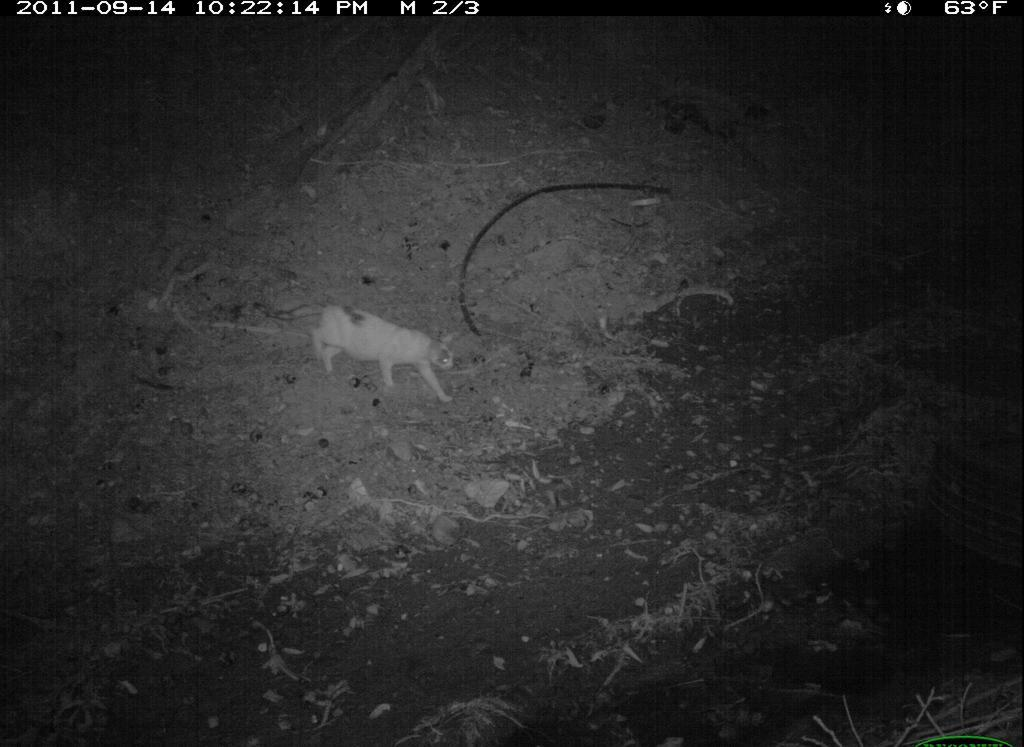cat: (263, 287, 463, 409)
